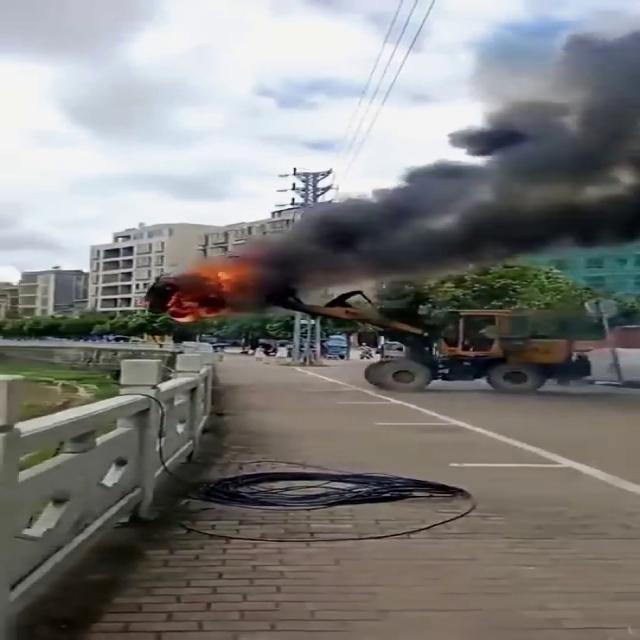Fire: (165, 262, 242, 322)
Smoke: (243, 3, 640, 304)
